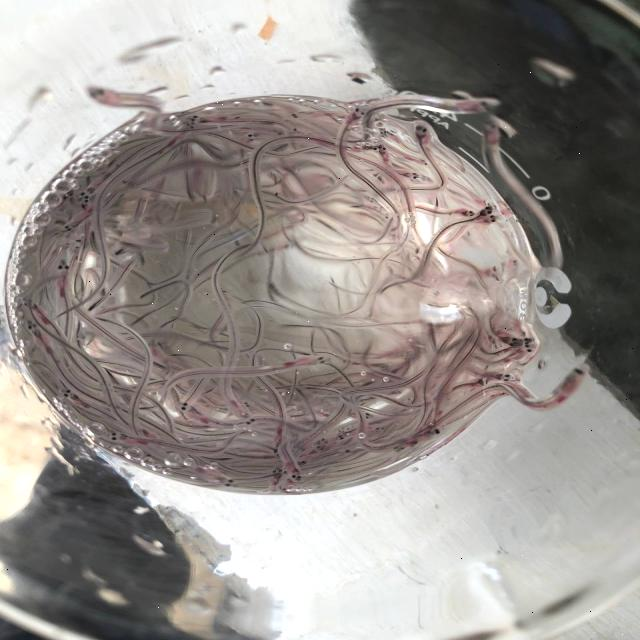glass_eel: (461, 96, 504, 116), (82, 80, 112, 106), (478, 120, 505, 142), (564, 364, 592, 384), (412, 122, 432, 146), (376, 124, 400, 144), (348, 101, 368, 123), (180, 112, 203, 131), (502, 333, 527, 349), (76, 188, 98, 206), (308, 352, 330, 370), (210, 473, 238, 487), (57, 386, 81, 402), (104, 427, 125, 445), (60, 220, 82, 236), (174, 400, 199, 414), (478, 203, 498, 220), (58, 185, 76, 202), (72, 235, 87, 255), (17, 297, 37, 312), (268, 466, 288, 481), (55, 259, 73, 275), (23, 319, 41, 335), (286, 469, 304, 485), (520, 342, 538, 358), (458, 207, 480, 220), (520, 336, 540, 350), (374, 145, 394, 159), (240, 130, 260, 144), (403, 171, 427, 182), (482, 214, 500, 228), (494, 372, 518, 382), (286, 111, 306, 123), (236, 398, 256, 409), (242, 416, 258, 429), (394, 442, 406, 454), (408, 438, 420, 450), (334, 434, 348, 442), (340, 448, 354, 456), (363, 412, 373, 422), (430, 429, 442, 437), (296, 459, 308, 466)
